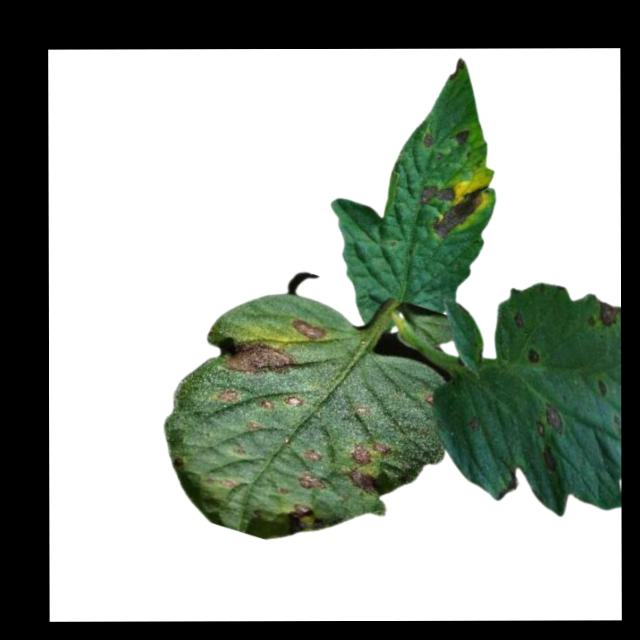Early_blight: (432, 187, 486, 238), (219, 340, 296, 374), (286, 502, 330, 532), (351, 439, 395, 467), (534, 404, 564, 437), (416, 180, 457, 204), (344, 468, 379, 495), (289, 318, 326, 340), (295, 470, 326, 492), (597, 300, 621, 326), (539, 440, 557, 473), (218, 386, 240, 405), (282, 390, 303, 409), (303, 445, 322, 464), (524, 343, 539, 364), (418, 131, 436, 148), (257, 395, 275, 412), (453, 128, 469, 146), (512, 308, 523, 328)
